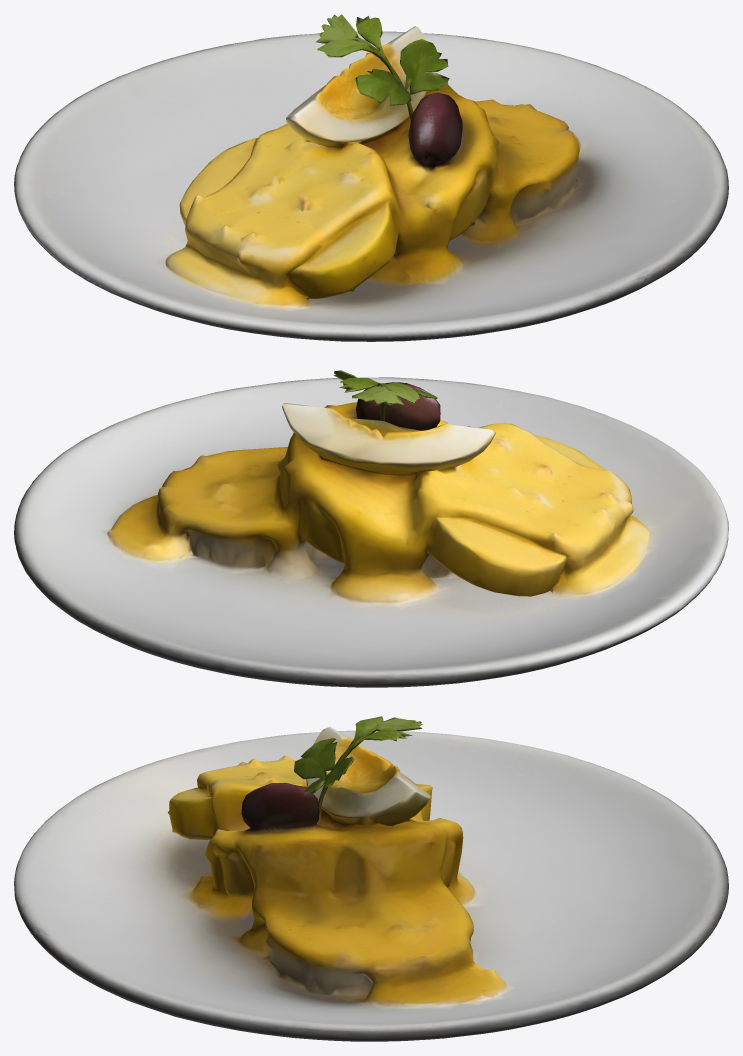
File: papa_huancaina.glb
3 views of the same model, one above another, from view 1: azimuth 30°, elevation 25°; view 2: azimuth 150°, elevation 25°; view 3: azimuth 270°, elevation 25° (orthographic).
Parts seen in each view (by area): view 1: tripo_node_fd83fe04-b95d-465f-91da-9f96f97cb546; view 2: tripo_node_fd83fe04-b95d-465f-91da-9f96f97cb546; view 3: tripo_node_fd83fe04-b95d-465f-91da-9f96f97cb546.
Part boxes in pixels (<box>): tripo_node_fd83fe04-b95d-465f-91da-9f96f97cb546: <box>14,14,728,341</box>; tripo_node_fd83fe04-b95d-465f-91da-9f96f97cb546: <box>14,370,728,687</box>; tripo_node_fd83fe04-b95d-465f-91da-9f96f97cb546: <box>14,716,728,1041</box>.
Bounding box in the file's own units: 1 × 0.295 × 0.9976.
Materials: 1 (1 with a texture image).
